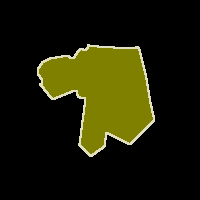tie: (38, 44, 154, 156)
